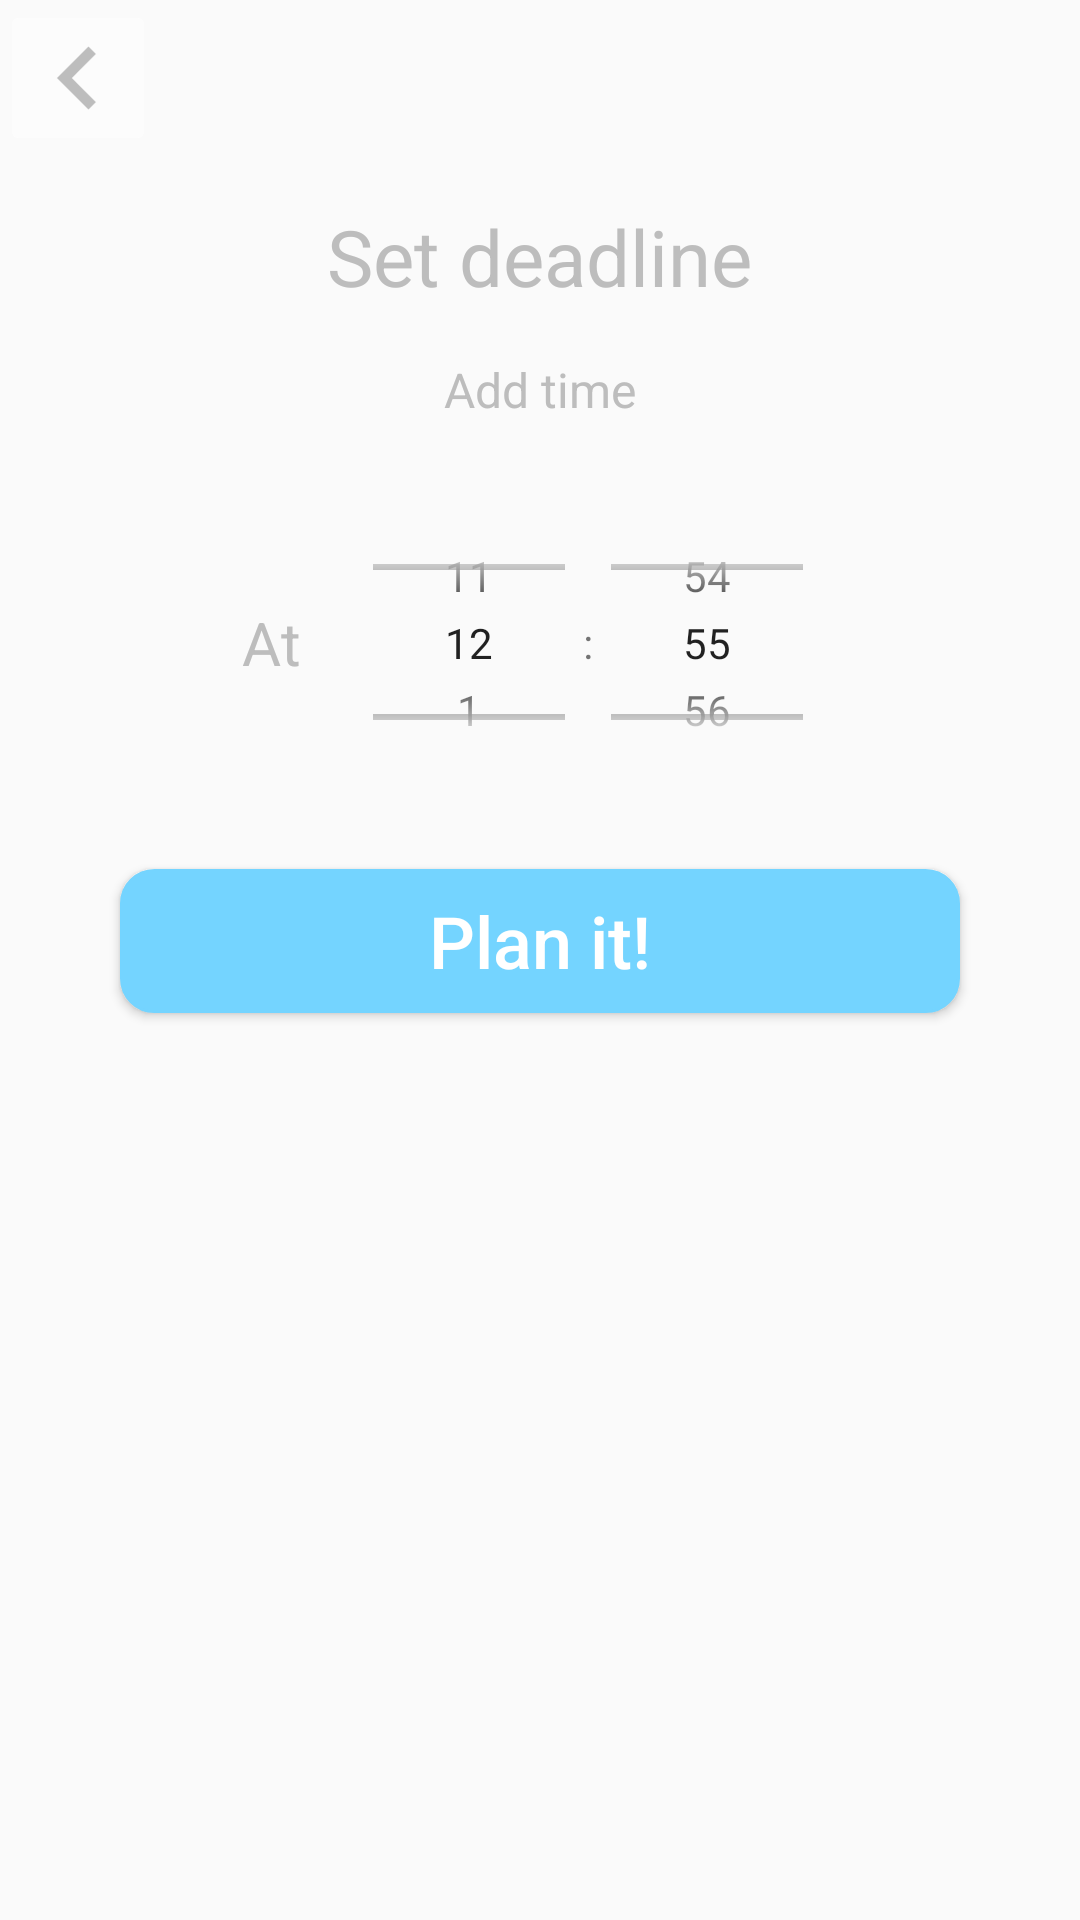

Icon click points for this 1080px×1920px phone screenshot, format (x,y):
back: (76,78)
